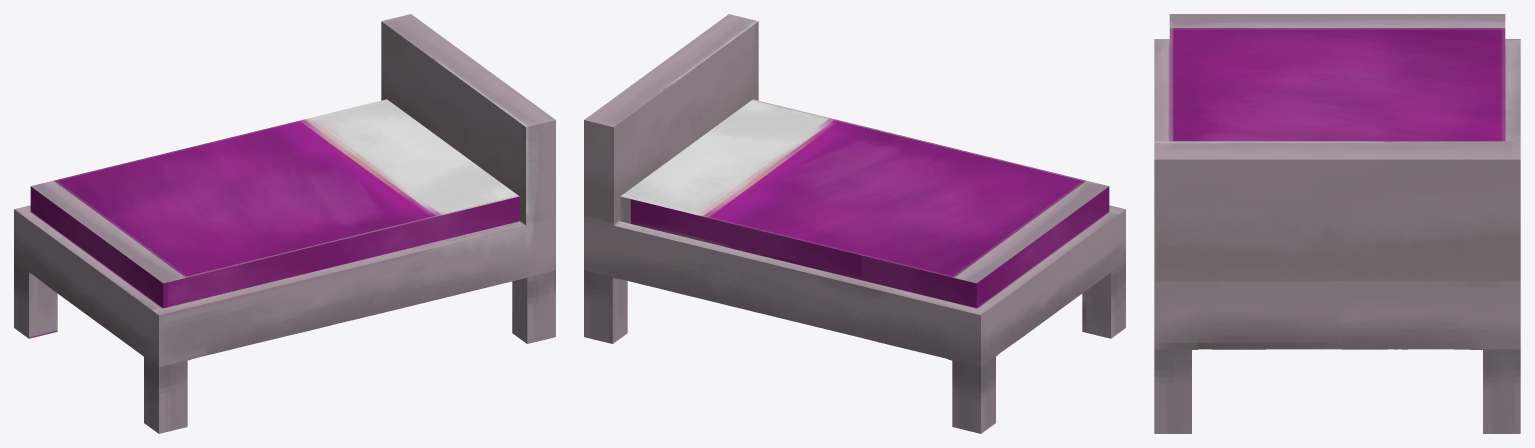
The model's file is Assets_lit.fbx.
3 views of the same model, side by side, from view 1: azimuth 30°, elevation 25°; view 2: azimuth 150°, elevation 25°; view 3: azimuth 270°, elevation 25° (orthographic). The views are drawn at different scales.
Visible parts, largest first — view 1: Lit; view 2: Lit; view 3: Lit.
Part boxes in pixels (box(x1,y1,x2,y2)): Lit: box(14, 14, 555, 433); Lit: box(584, 14, 1125, 433); Lit: box(1154, 14, 1520, 433).
Bounding box in the file's own units: 205 × 107 × 129.
1 material, 1 textured.
